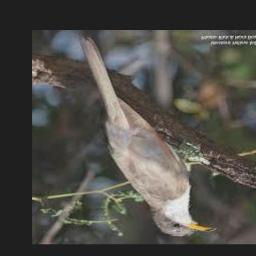Cuckoo: (79, 37, 216, 236)
